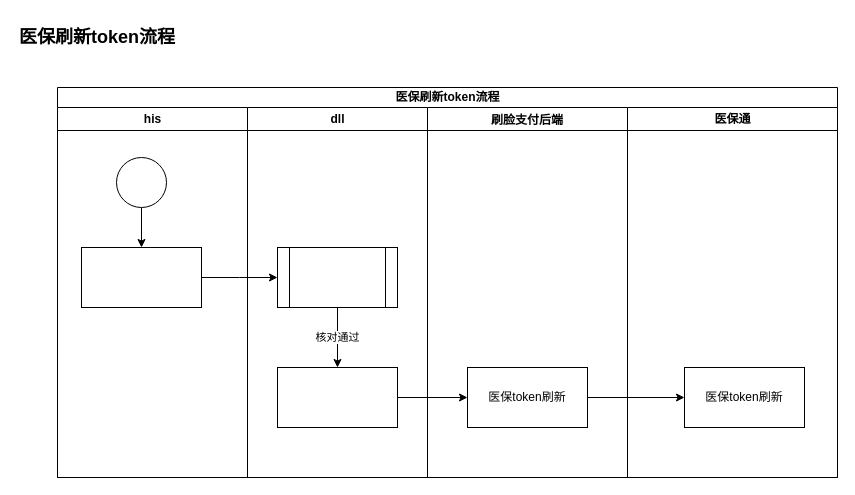
Some shapes in this 855 by 495 pixel diagram are drawn without their labels. The shapes that lost their labels are listed below. From the top down, each one's centre as x and y in pixels, then its label:
At [141,182]: "开始".
At [141,277]: "医保卡信息（卡号，卡识别码，姓名，身份证号）".
At [337,277]: "刷脸核身（非会员模式）".
At [337,397]: "根据入参的医保信息，刷新token".
